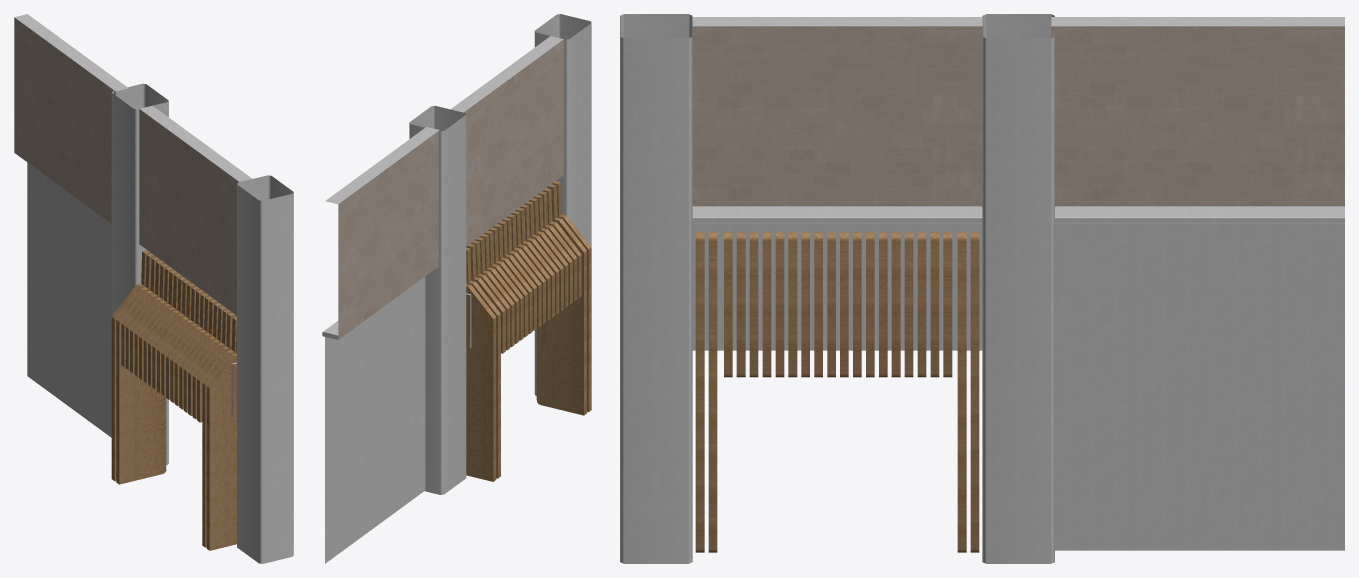
The model's file is staduim-room.fbx.
3 renders of one model, left to right at view 1: azimuth 30°, elevation 25°; view 2: azimuth 150°, elevation 25°; view 3: azimuth 270°, elevation 25°, orthographic. The views are drawn at different scales.
Visible parts, largest first — view 1: SM_LargeWall_01a.009, Box006, SM_Pillar_01b.001, SM_LargeWallUpper_01a, SM_Pillar_01b; view 2: SM_LargeWall_01a.009, Box006, SM_LargeWallUpper_01a, SM_Pillar_01b, SM_Pillar_01b.001; view 3: SM_LargeWall_01a.009, SM_LargeWallUpper_01a, SM_Pillar_01b.001, SM_Pillar_01b, Box006.
Part boxes in pixels (<box>): SM_LargeWall_01a.009: <box>14,14,128,437</box>; Box006: <box>111,250,236,550</box>; SM_Pillar_01b.001: <box>237,175,293,563</box>; SM_LargeWallUpper_01a: <box>139,105,252,417</box>; SM_Pillar_01b: <box>111,83,168,465</box>; SM_LargeWall_01a.009: <box>322,127,439,563</box>; Box006: <box>466,181,591,481</box>; SM_LargeWallUpper_01a: <box>450,36,563,348</box>; SM_Pillar_01b: <box>409,105,466,494</box>; SM_Pillar_01b.001: <box>534,14,591,395</box>; SM_LargeWall_01a.009: <box>1051,17,1344,550</box>; SM_LargeWallUpper_01a: <box>692,17,982,350</box>; SM_Pillar_01b.001: <box>620,14,692,563</box>; SM_Pillar_01b: <box>982,14,1054,563</box>; Box006: <box>695,232,979,552</box>.
Size of the model in its own units: 137 by 800 by 1000.
5 materials, 5 textured.
